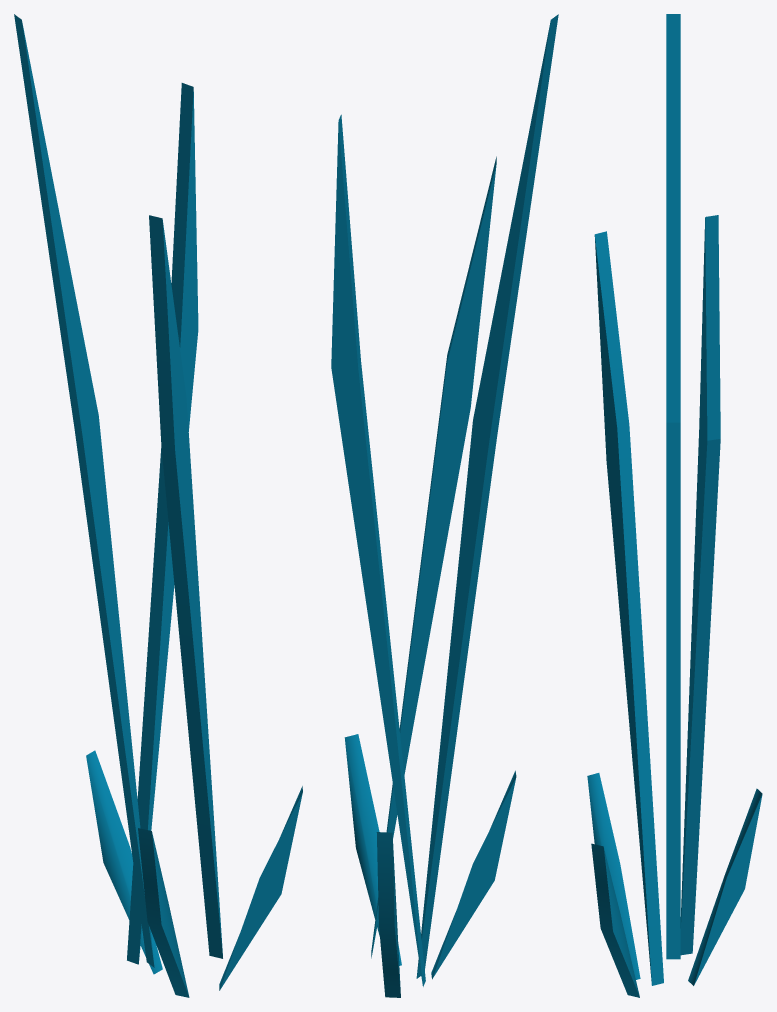
Rendered from Plant_Blue.fbx.
The picture shows the model from 3 angles, left to right: view 1: azimuth 30°, elevation 25°; view 2: azimuth 150°, elevation 25°; view 3: azimuth 270°, elevation 25°; orthographic projection. The views are drawn at different scales.
Visible parts, largest first — view 1: Cube_1, Cube_2, Cube, Cube_4, Cube_3, Cube_5; view 2: Cube_2, Cube, Cube_1, Cube_5, Cube_3, Cube_4; view 3: Cube_1, Cube_2, Cube, Cube_4, Cube_5, Cube_3.
Boxes of the visible parts, left/top/right/bottom form: Cube_1: left=149, top=215, right=222, bottom=958; Cube_2: left=14, top=14, right=154, bottom=967; Cube: left=127, top=83, right=198, bottom=964; Cube_4: left=86, top=750, right=162, bottom=974; Cube_3: left=138, top=828, right=189, bottom=997; Cube_5: left=219, top=786, right=302, bottom=990; Cube_2: left=416, top=14, right=558, bottom=978; Cube: left=331, top=114, right=425, bottom=986; Cube_1: left=371, top=156, right=496, bottom=958; Cube_5: left=344, top=734, right=401, bottom=965; Cube_3: left=431, top=770, right=516, bottom=979; Cube_4: left=376, top=832, right=400, bottom=997; Cube_1: left=594, top=231, right=663, bottom=985; Cube_2: left=666, top=14, right=680, bottom=959; Cube: left=680, top=215, right=720, bottom=955; Cube_4: left=688, top=788, right=762, bottom=985; Cube_5: left=591, top=843, right=639, bottom=997; Cube_3: left=587, top=773, right=640, bottom=979.
Bounding box in the file's own units: 71.86 × 279 × 49.
